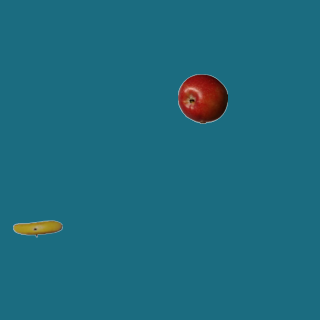Apple Braeburn: (177, 73, 227, 123)
Banana: (12, 203, 62, 253)
